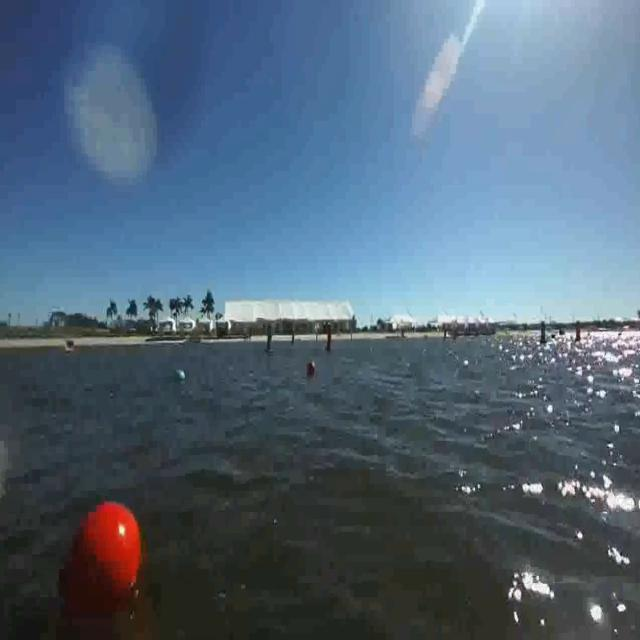green-buoy: (169, 366, 186, 384)
green-column-buoy: (266, 326, 276, 354)
red-buoy: (55, 495, 150, 624), (308, 362, 316, 373)
